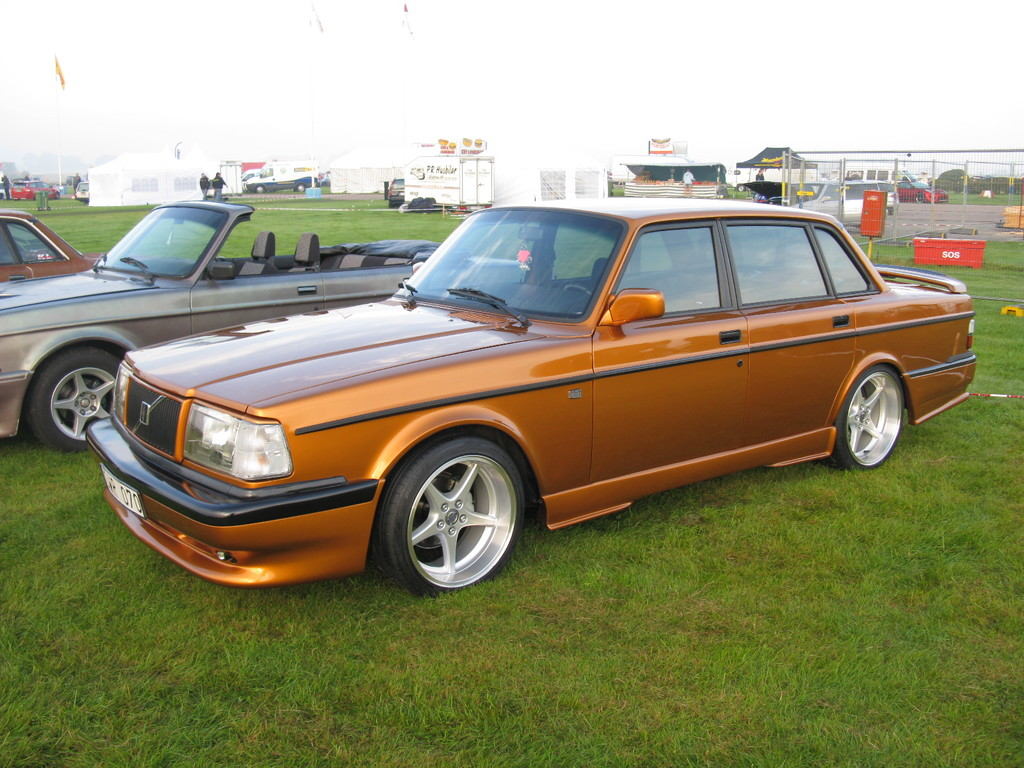Car: (81, 190, 981, 598), (0, 200, 445, 455), (0, 209, 109, 276), (888, 177, 954, 206), (7, 176, 62, 200), (76, 177, 89, 202)
